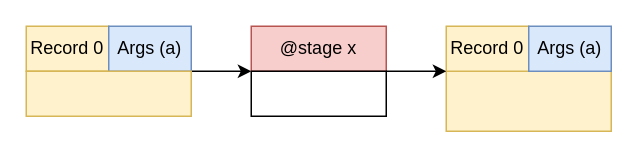
Some shapes in this 638 by 158 pixel diagram are drawn without their labels. The shapes that lost their labels are listed below. From the top down, each one's centre as x and y in pixels, then its label:
At (x=108, y=93): "state: empty".
At (x=318, y=93): "Experiment code".
At (x=528, y=100): "state: * stage x outputs".
